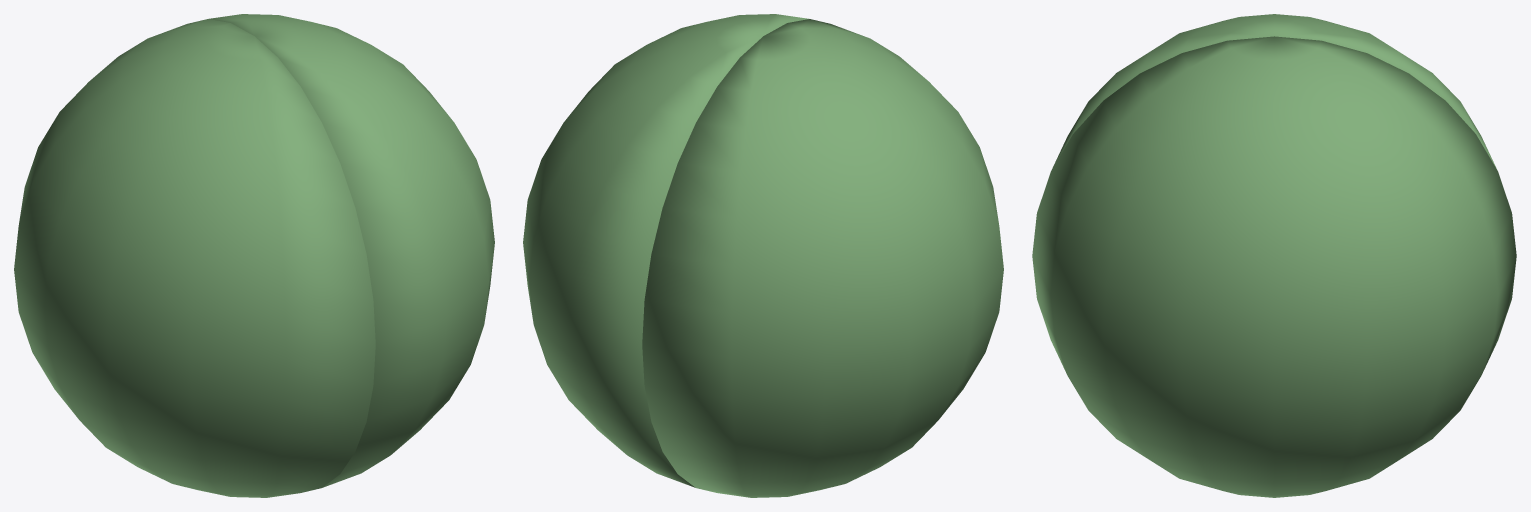
File: WaterMelonSliced.fbx
3 renders of one model, left to right at view 1: azimuth 30°, elevation 25°; view 2: azimuth 150°, elevation 25°; view 3: azimuth 270°, elevation 25°, orthographic.
Visible parts, largest first — view 1: Sphere.002, Sphere.001; view 2: Sphere.002, Sphere.001; view 3: Sphere.001, Sphere.002.
Part boxes in pixels (bbox=[...]): Sphere.002: bbox=[14, 19, 375, 497]; Sphere.001: bbox=[209, 14, 494, 487]; Sphere.002: bbox=[642, 19, 1003, 497]; Sphere.001: bbox=[523, 14, 808, 487]; Sphere.001: bbox=[1032, 36, 1516, 497]; Sphere.002: bbox=[1052, 14, 1496, 169].
Bounding box in the file's own units: 200 × 200 × 200.
